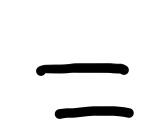eqv: (36, 63, 134, 119)
